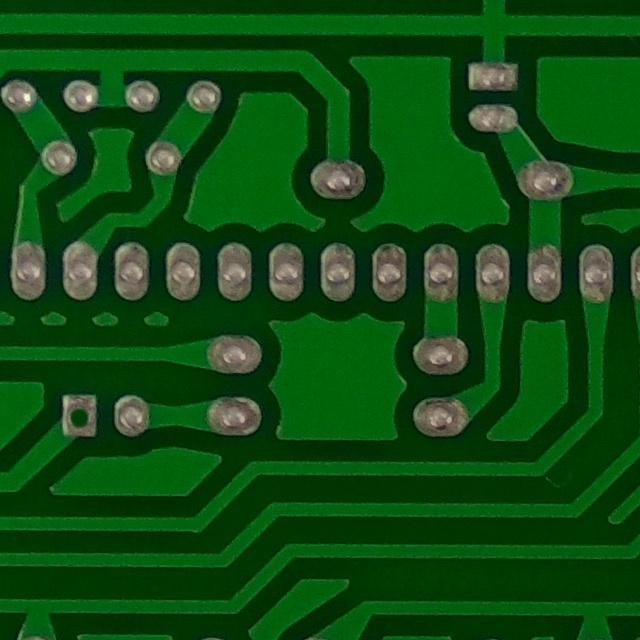missing_hole: (49, 386, 104, 450)
